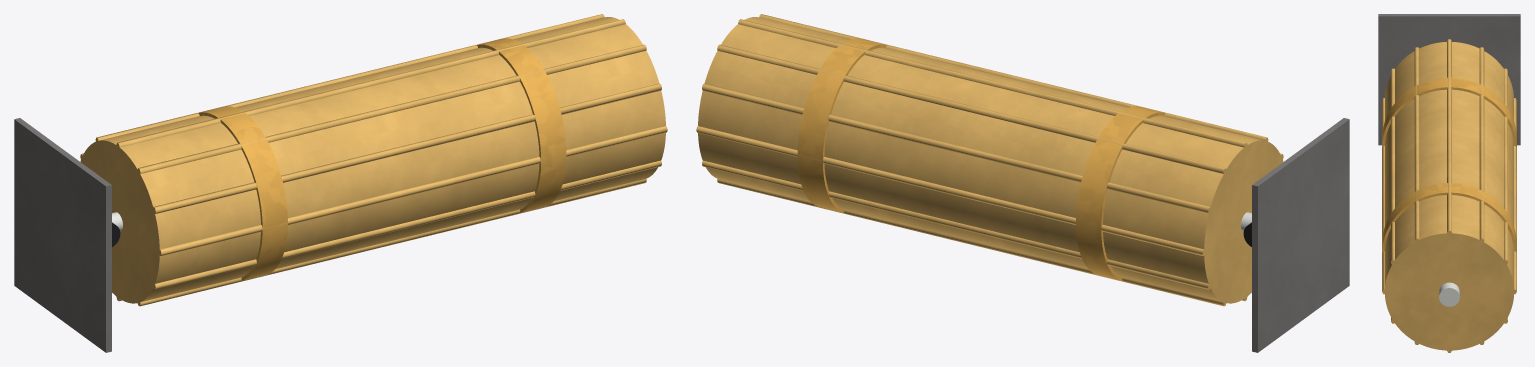
File: power16_mesh_antenna_xl.glb
The picture shows the model from 3 angles, left to right: view 1: azimuth 30°, elevation 25°; view 2: azimuth 150°, elevation 25°; view 3: azimuth 270°, elevation 25°; orthographic projection. The views are drawn at different scales.
Visible parts, largest first — view 1: stowed_bundle, mount, launch_restraints; view 2: stowed_bundle, mount, launch_restraints; view 3: stowed_bundle, mount, launch_restraints, feed.
Part boxes in pixels (bbox=[...]): stowed_bundle: bbox=[80, 14, 667, 306]; mount: bbox=[14, 118, 111, 352]; launch_restraints: bbox=[198, 38, 566, 280]; stowed_bundle: bbox=[696, 14, 1283, 306]; mount: bbox=[1252, 118, 1349, 352]; launch_restraints: bbox=[797, 38, 1165, 280]; stowed_bundle: bbox=[1382, 39, 1516, 352]; mount: bbox=[1378, 14, 1520, 145]; launch_restraints: bbox=[1382, 77, 1516, 252]; feed: bbox=[1439, 282, 1459, 306].
Size of the model in its own units: 4 by 1.1 by 1.1.
5 materials, 3 textured.
